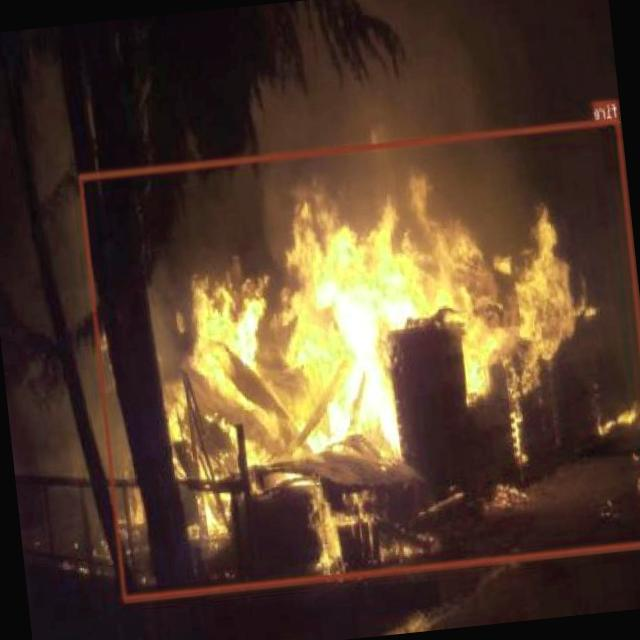fire: (78, 116, 640, 599)
